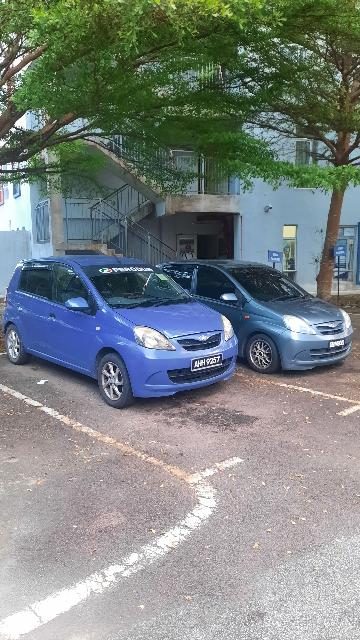License_Plate: (189, 355, 231, 374), (328, 339, 355, 352)
car: (4, 256, 242, 410), (150, 256, 360, 376)
